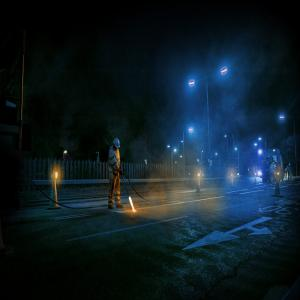blue: (113, 138, 121, 151)
